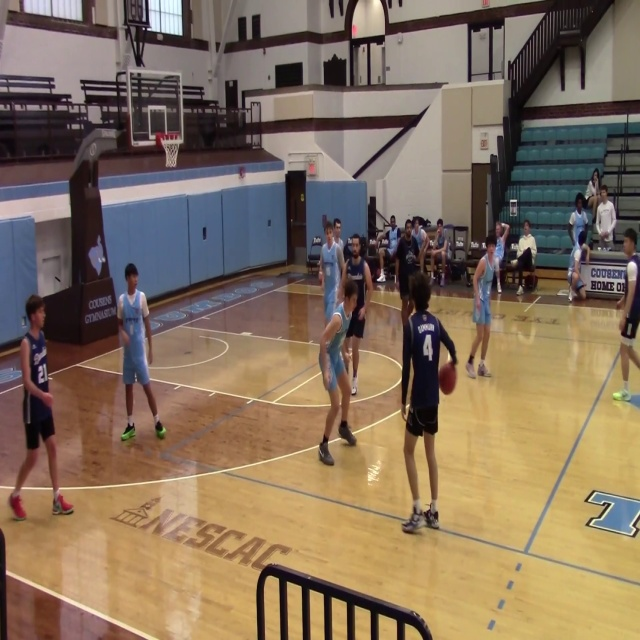Basketball: (438, 361, 457, 395)
